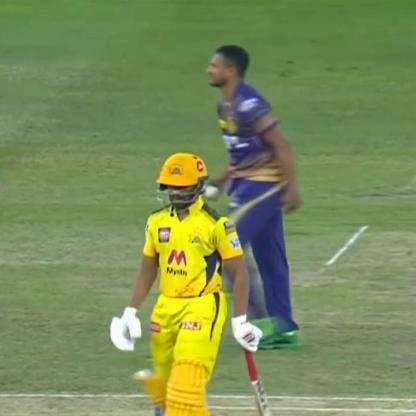ball: (198, 176, 223, 205)
